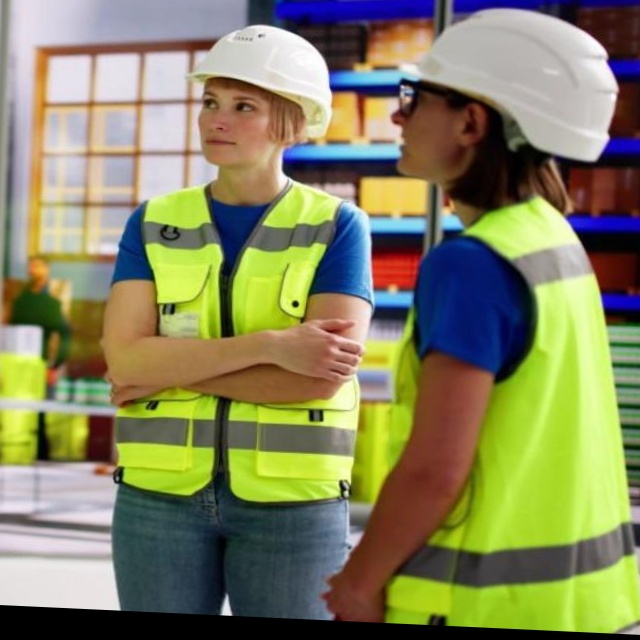Con_Casco: (391, 1, 624, 192), (183, 21, 338, 170)
Con_Chaleco: (360, 199, 640, 634), (113, 171, 369, 501)
